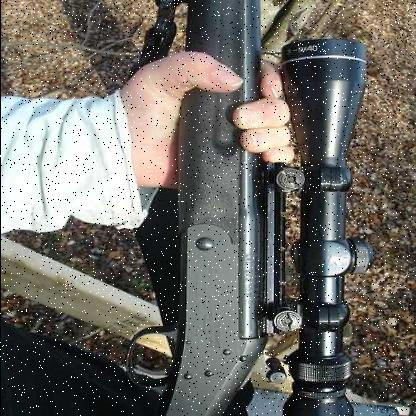rifle: (102, 2, 373, 415)
